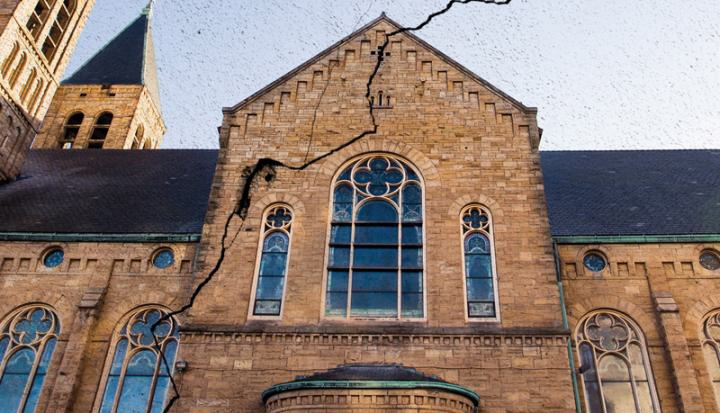crack: (215, 172, 262, 253), (363, 45, 396, 135), (375, 5, 459, 40), (285, 134, 360, 173), (179, 258, 228, 312)
